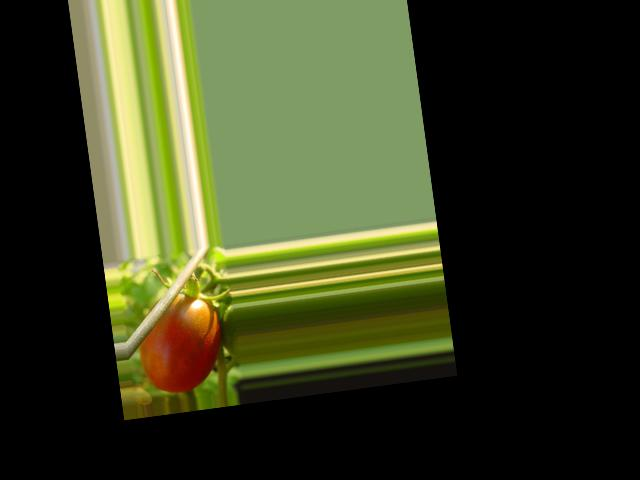tomato: (133, 289, 226, 396)
